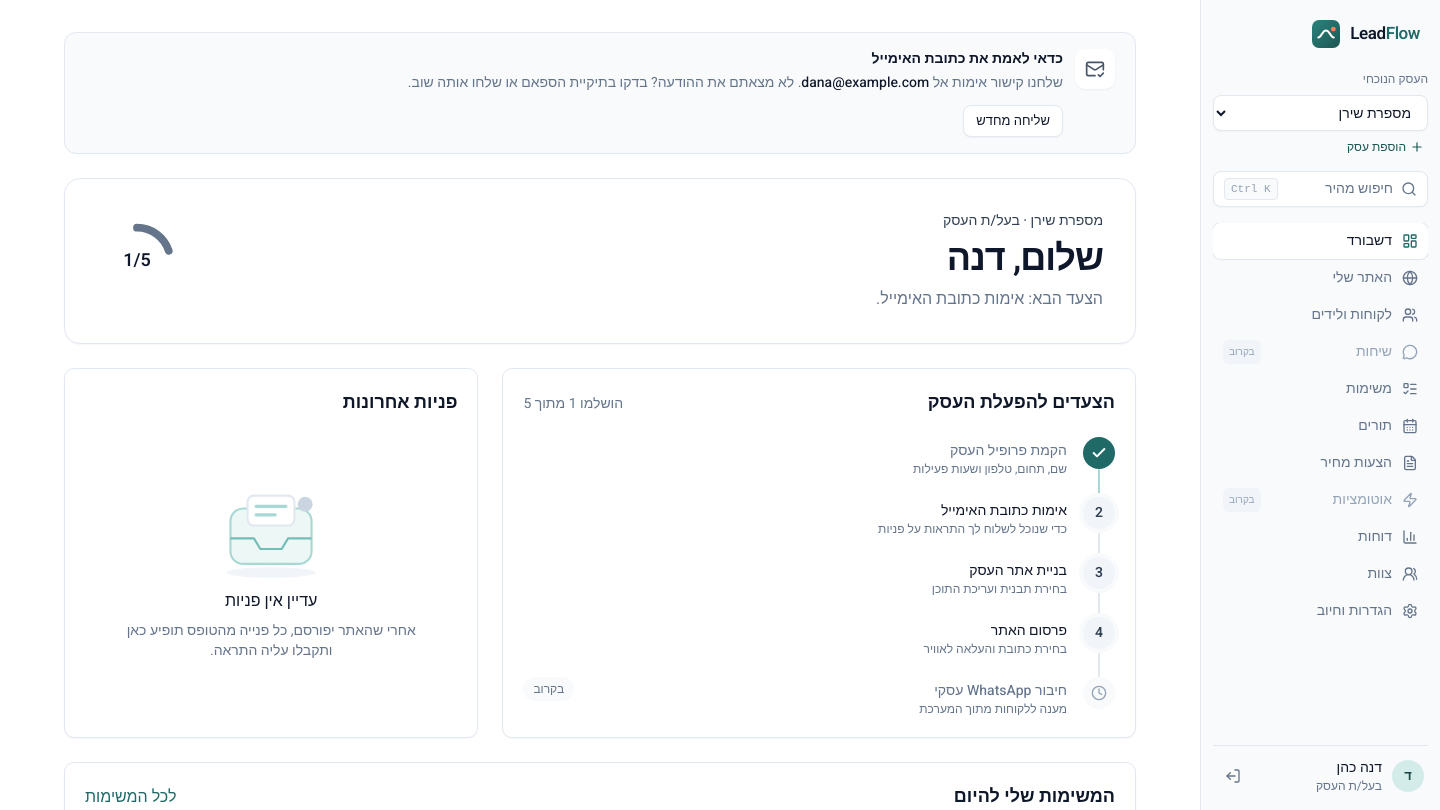
Test: app shell › switches between businesses
Select "מוסך הצפון" in the dropdown labelled "העסק הנוכחי": {"x": 1320, "y": 113} [1213, 95, 1428, 131]
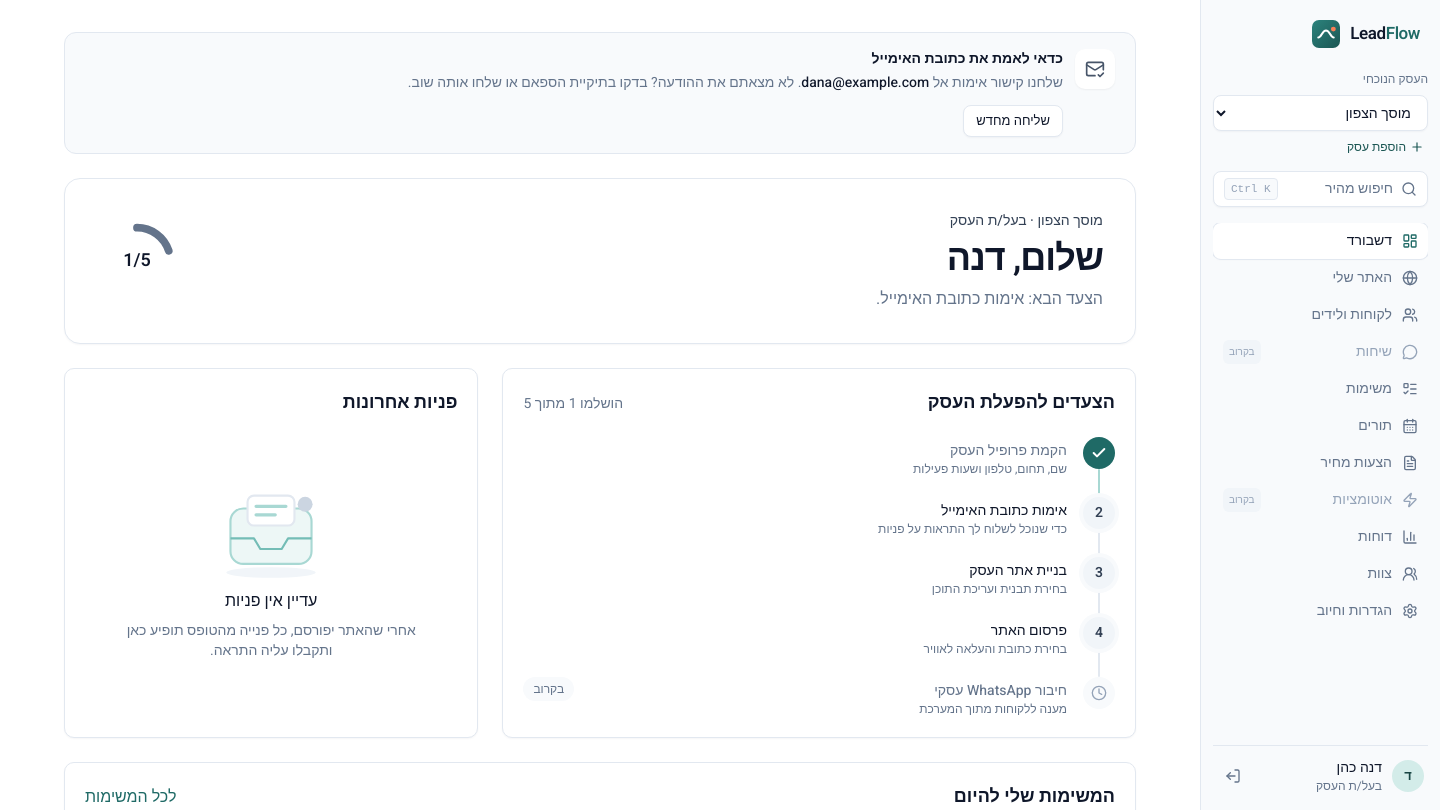
Now the text "מוסך הצפון · בעל/ת העסק" is shown, box [950, 210, 1103, 231]
